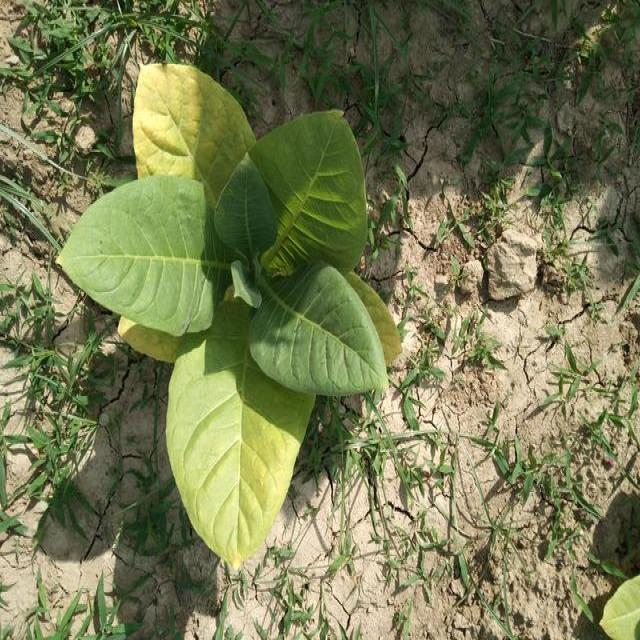crop: (52, 64, 400, 585)
